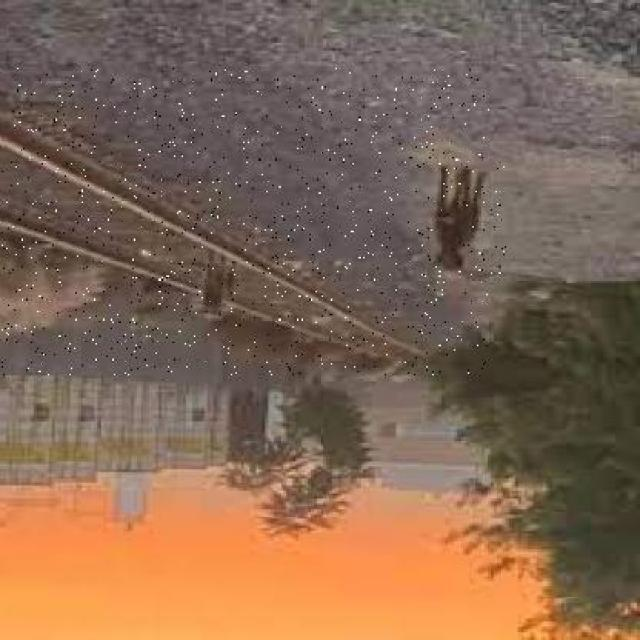danger: (420, 166, 508, 277), (177, 238, 246, 334)
rail: (2, 68, 488, 373)
